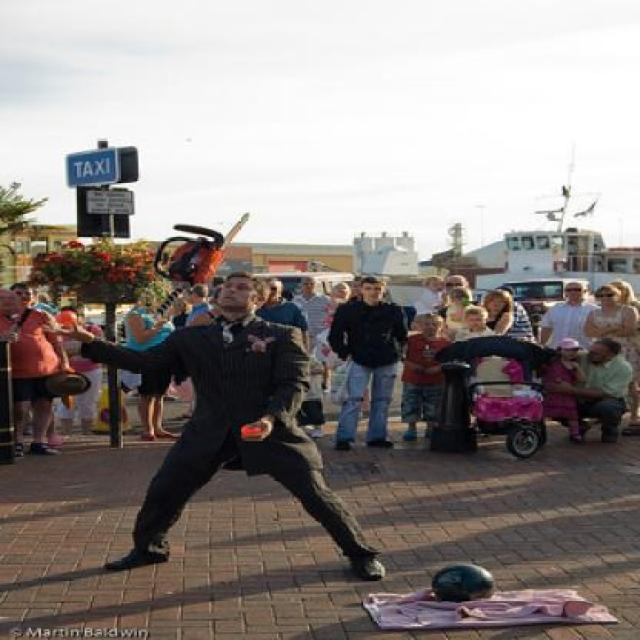Chainsaw: (138, 211, 250, 343)
